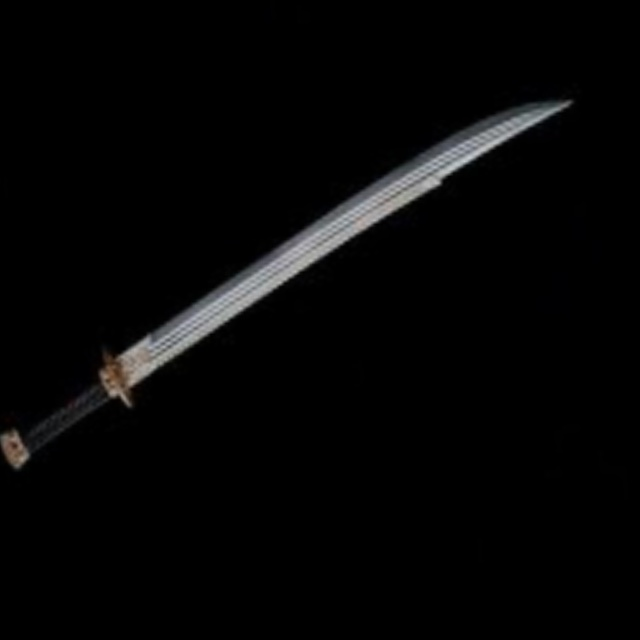Sharp-Object: (0, 80, 630, 454)
